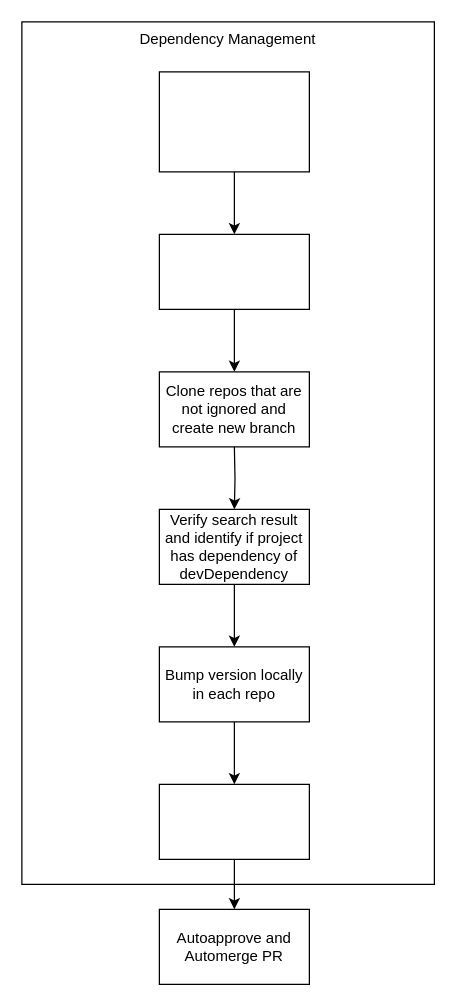
This 456x1006 diagram has some shape labels left out. The shapes that lost their labels are listed below. From the top down, each one's centre as x and y in pixels, then its label:
At point (233, 121): "Pick name of package and its version from package.json".
At point (233, 271): "Get list of repos from GitHub search, that have dependency in their package.json".
At point (233, 821): "Push changes and open PRs".
